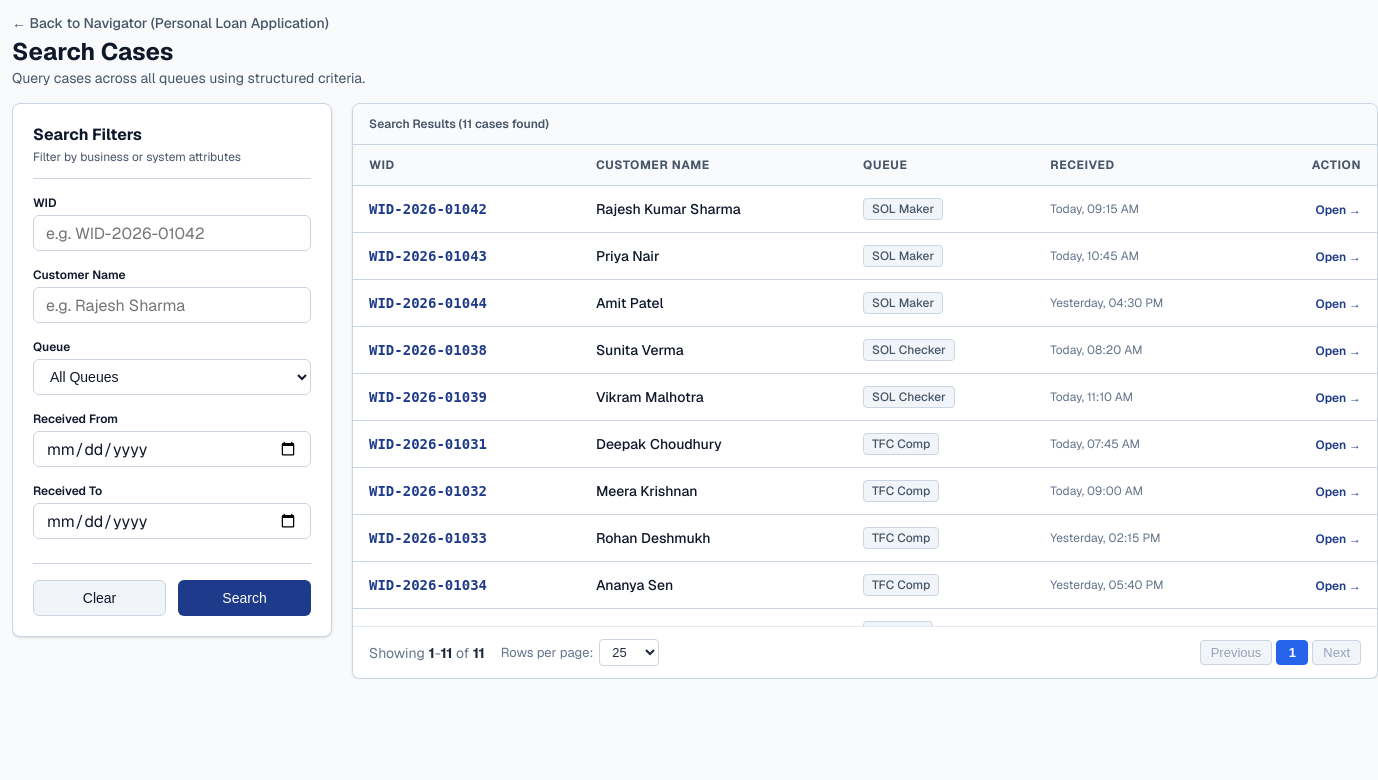
Test case: Client Demo Runtime Slice › Search Left/Right Workspace & Customer Name Terminology › clears search filters and resets pagination
The width and height of the screenshot is (1378, 780).
Type "Rajesh Sharma" into the field labelled "Customer Name".
click(172, 305); type("Rajesh Sharma")  # box x1=33 y1=287 x2=311 y2=323
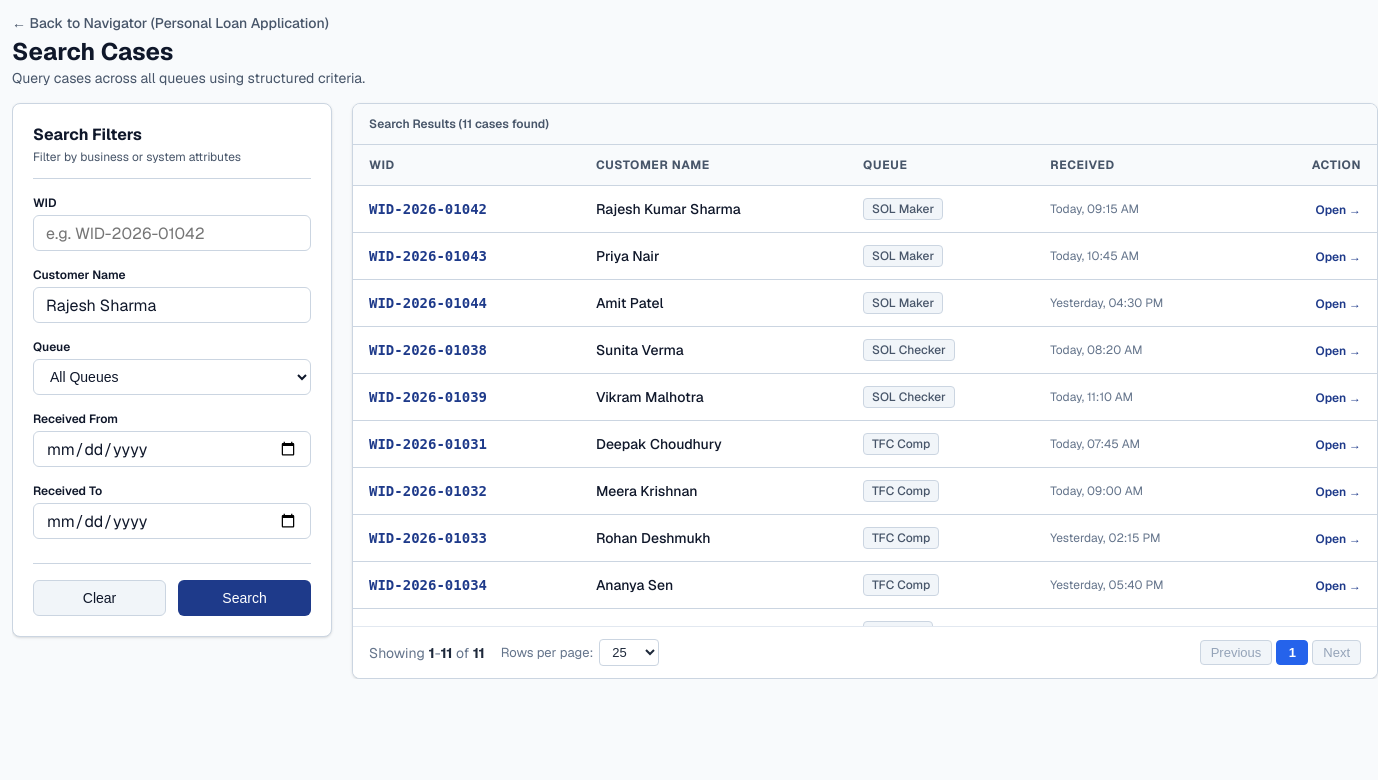
Click the button "Clear".
click(100, 598)  # box x1=33 y1=580 x2=166 y2=616
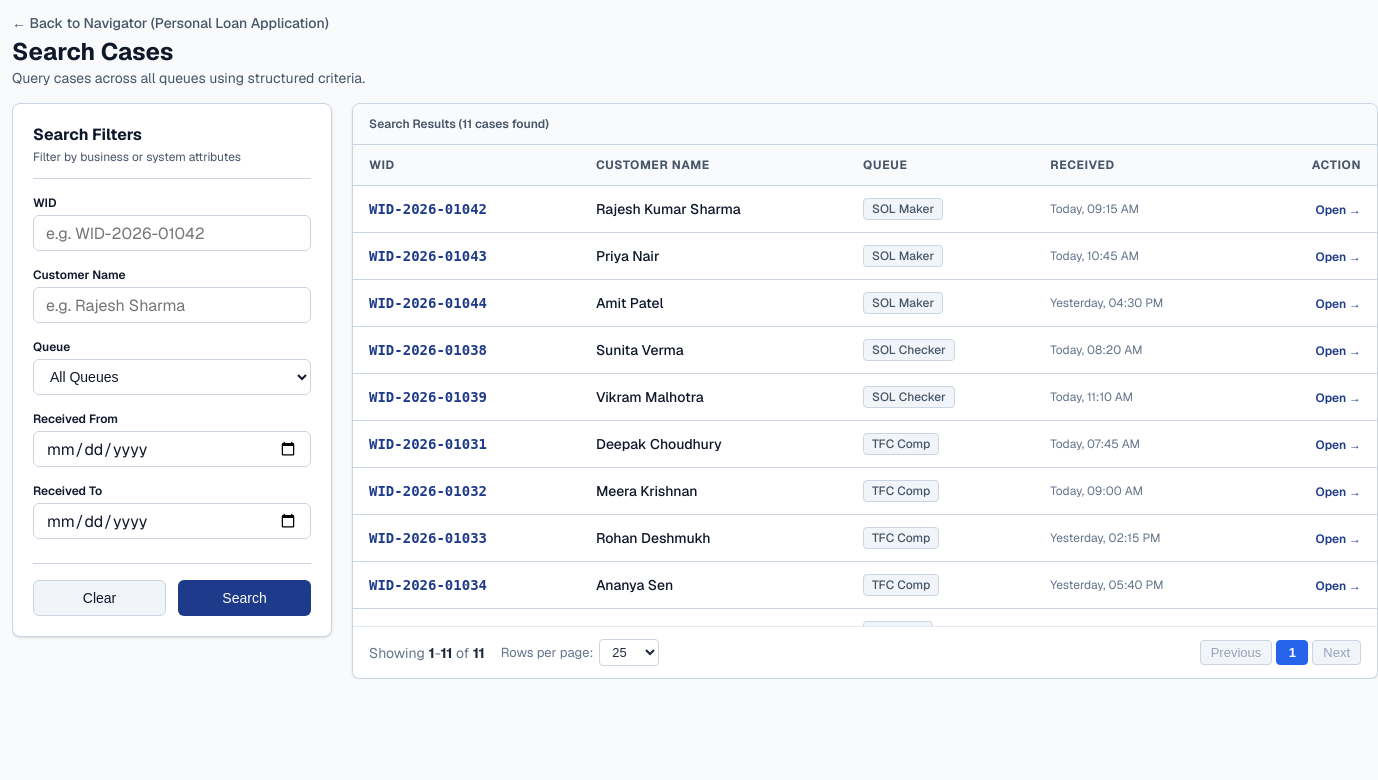
Expected: the field labelled "Customer Name" is empty, x1=33 y1=287 x2=311 y2=323
